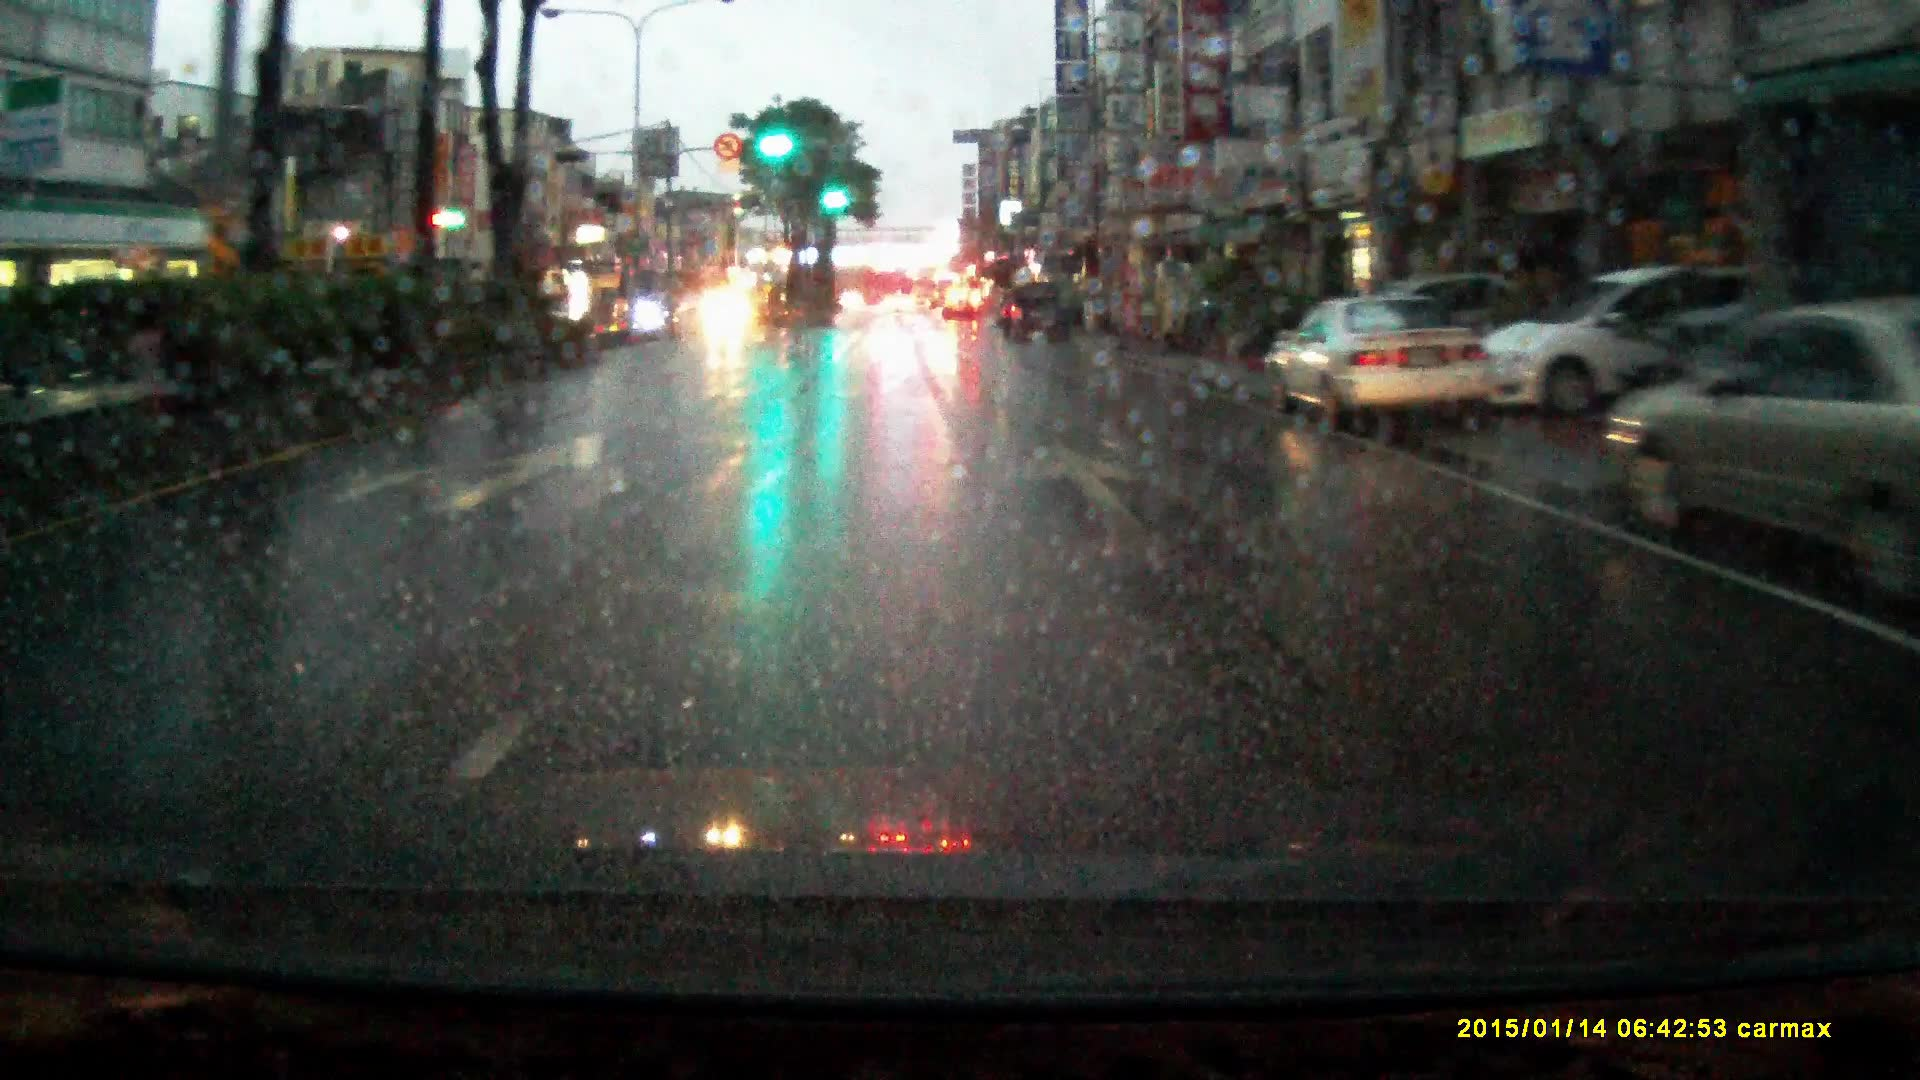vehicle: (1604, 306, 1920, 567), (1482, 265, 1782, 419), (1259, 295, 1497, 440), (1004, 285, 1073, 348), (694, 291, 757, 347), (620, 301, 667, 334), (914, 276, 942, 319), (944, 293, 978, 324), (884, 301, 916, 322)
